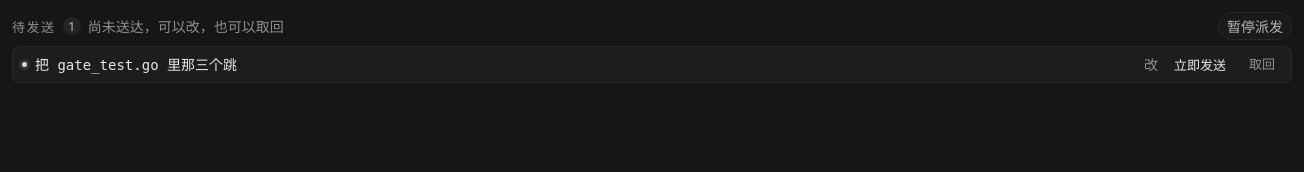
Scenario: editing a pending entry › says why, in the reader's language
This screenshot has width=1304, height=172.
Step 1. Click the button "改" → (1151, 64), box 1140,55 -> 1162,74
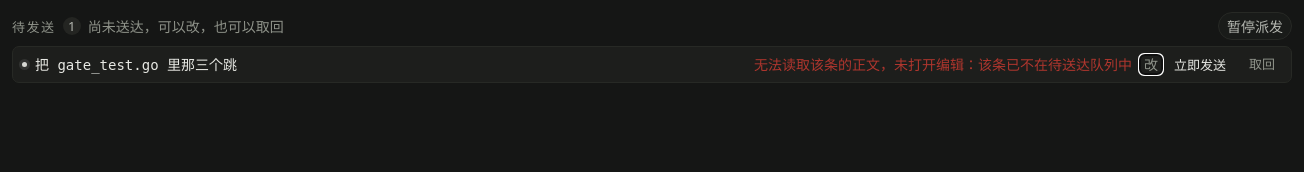
Result: the message "无法读取该条的正文，未打开编辑：该条已不在待送达队列中" is shown at 754,54 -> 1132,74
